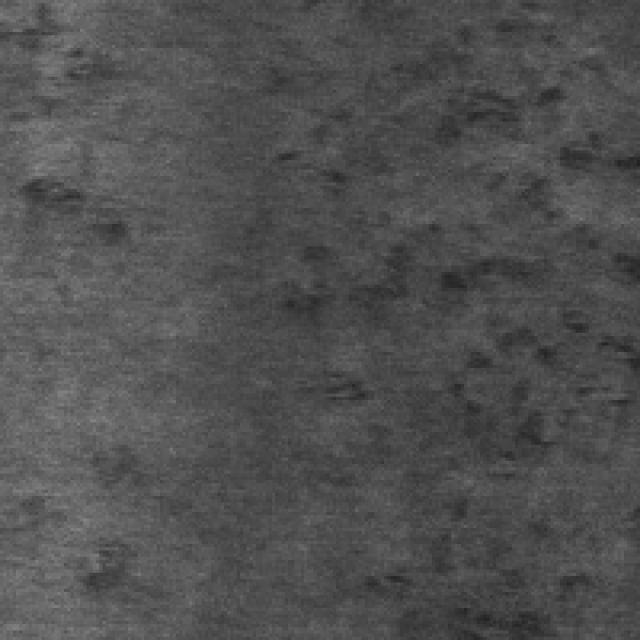rolled-in_scale: (422, 131, 640, 627), (282, 83, 412, 410), (422, 13, 628, 214), (19, 157, 154, 262)
